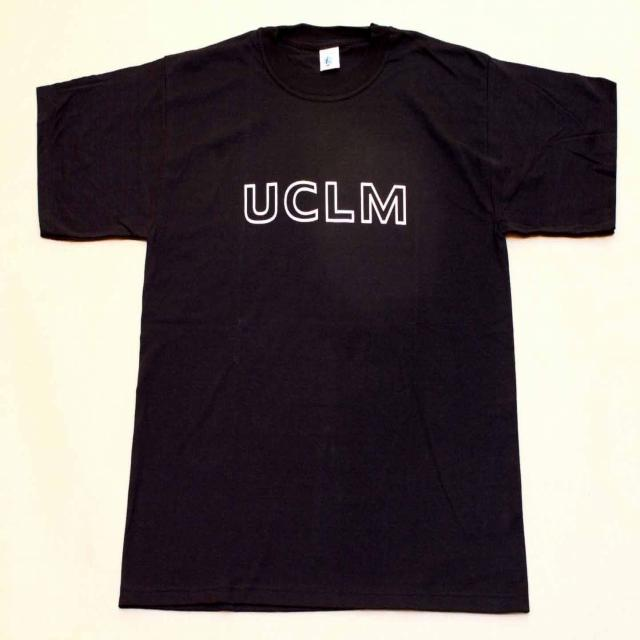T-shirt: (36, 18, 618, 627)
